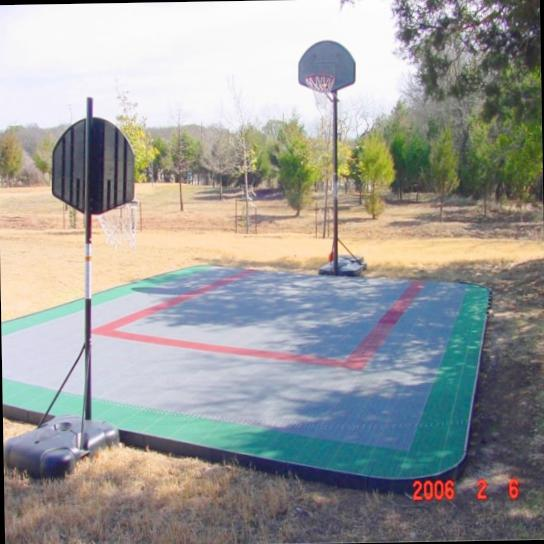basketball-hoop: (90, 194, 140, 251), (301, 72, 336, 112)
